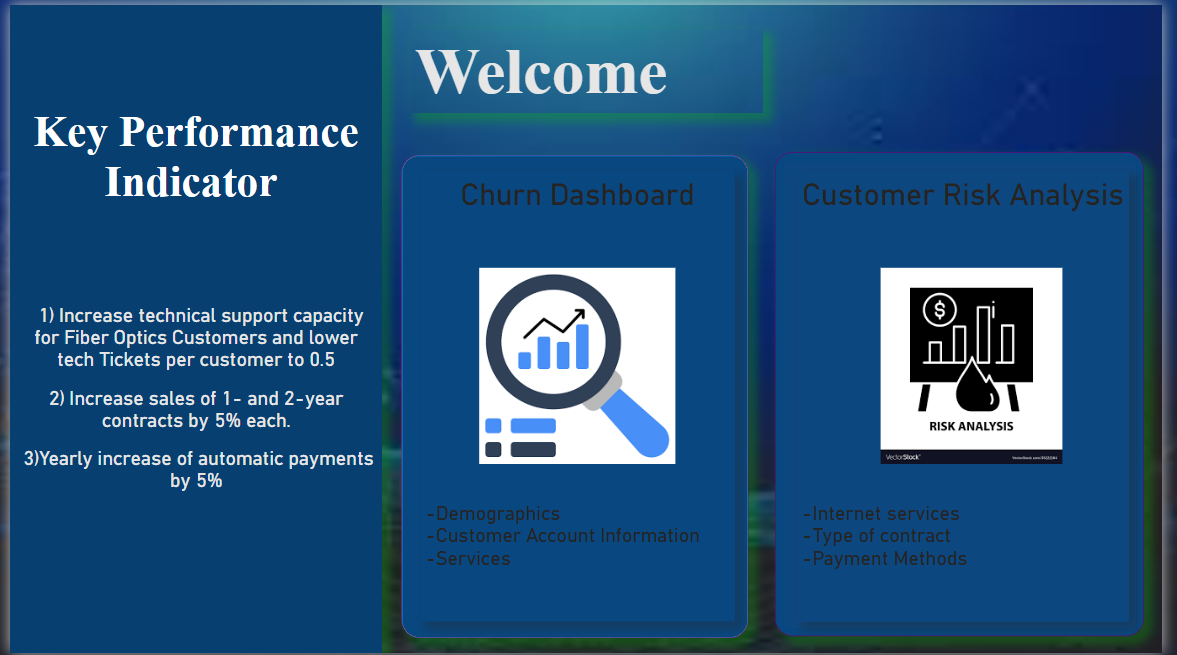

The page's visual inventory and layout, read from the dashboard file:
{"tool":"powerbi","page":{"name":"Welcome","canvas":[1280,720],"ordinal":0},"visuals":[{"type":"shape","box":[0,0,413.3,720],"z":0},{"type":"shape","box":[863.3,166.7,395,536.7],"z":1000},{"type":"shape","box":[435,166.7,385,536.7],"z":2000},{"type":"textbox","box":[0,0,413.3,720],"z":3000},{"type":"textbox","box":[445,26.7,391.7,93.3],"z":4000},{"type":"textbox","box":[456.7,185,348.3,500],"z":5000},{"type":"textbox","box":[875,185,368.3,500],"z":6000},{"type":"image","box":[480.4,287,300,228.3],"z":7000},{"type":"image","box":[893.5,287,350,228.3],"z":8000}]}

Visuals, with their boxes in screenshot pixels (x1, y1, x2, y2), scaled from the page's 1280x720 canvas onto the 1177x655 screenshot:
shape: <region>0, 0, 380, 654</region>
shape: <region>794, 152, 1157, 640</region>
shape: <region>400, 152, 754, 640</region>
textbox: <region>0, 0, 380, 654</region>
textbox: <region>409, 24, 769, 109</region>
textbox: <region>420, 168, 740, 623</region>
textbox: <region>805, 168, 1143, 623</region>
image: <region>442, 261, 718, 469</region>
image: <region>822, 261, 1143, 469</region>
